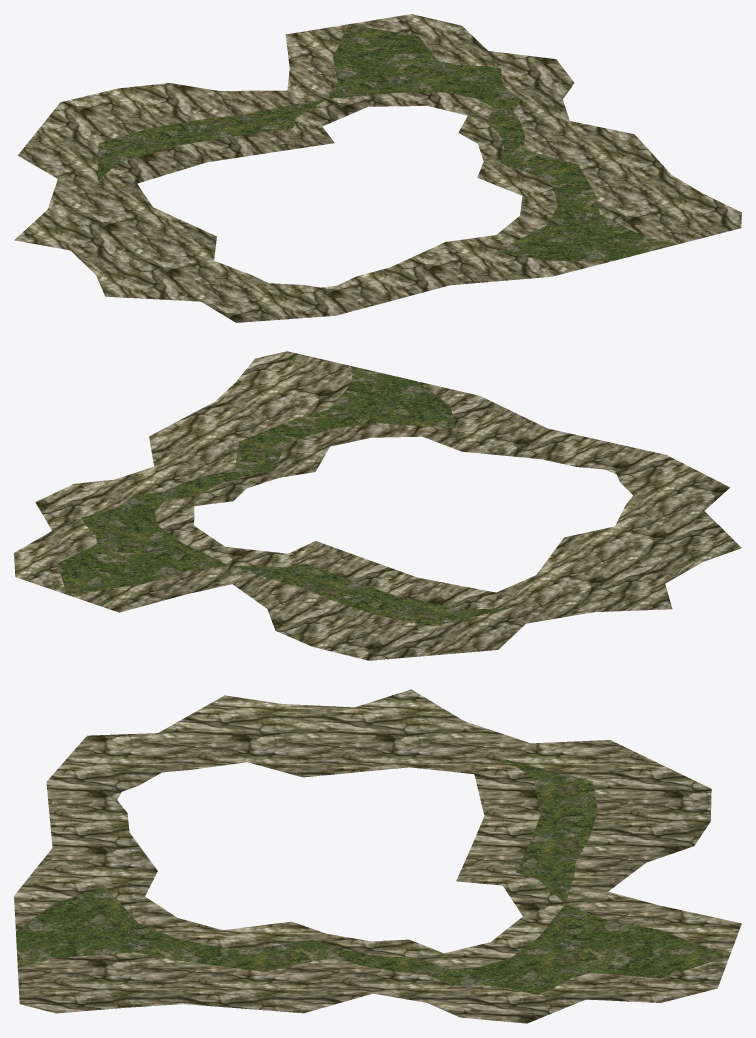
Rendered from CB_NEWPLAYSURFACE_CB_PLAYSURFACE13.fbx.
3 views of the same model, one above another, from view 1: azimuth 30°, elevation 25°; view 2: azimuth 150°, elevation 25°; view 3: azimuth 270°, elevation 25° (orthographic). The views are drawn at different scales.
Visible parts, largest first — view 1: CB_NEWPLAYSURFACE_CB_PLAYSURFACE13; view 2: CB_NEWPLAYSURFACE_CB_PLAYSURFACE13; view 3: CB_NEWPLAYSURFACE_CB_PLAYSURFACE13.
Boxes of the visible parts, left/top/right/bottom form: CB_NEWPLAYSURFACE_CB_PLAYSURFACE13: left=14, top=14, right=741, bottom=322; CB_NEWPLAYSURFACE_CB_PLAYSURFACE13: left=14, top=351, right=741, bottom=660; CB_NEWPLAYSURFACE_CB_PLAYSURFACE13: left=14, top=689, right=741, bottom=1023.
Size of the model in its own units: 454843 by 602 by 418687.
2 materials, 2 textured.
